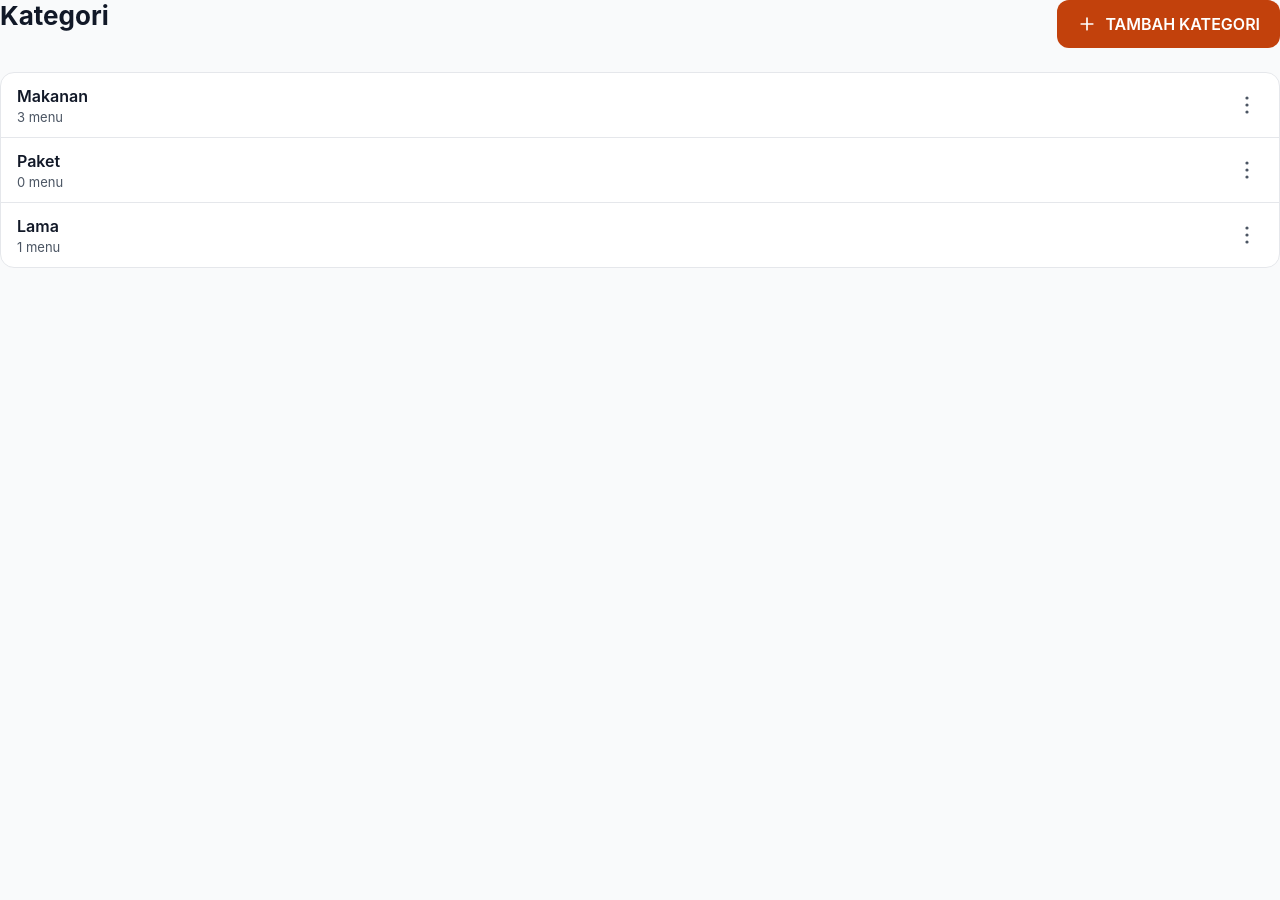
it: renaming a category › opens in a sheet with the current name and saves the new one
Expected: the text "Makanan" is shown, x1=17 y1=86 x2=88 y2=106
Step 1. Click the button named "Aksi untuk Paket" → {"x": 1247, "y": 170}, box x1=1223 y1=146 x2=1271 y2=194
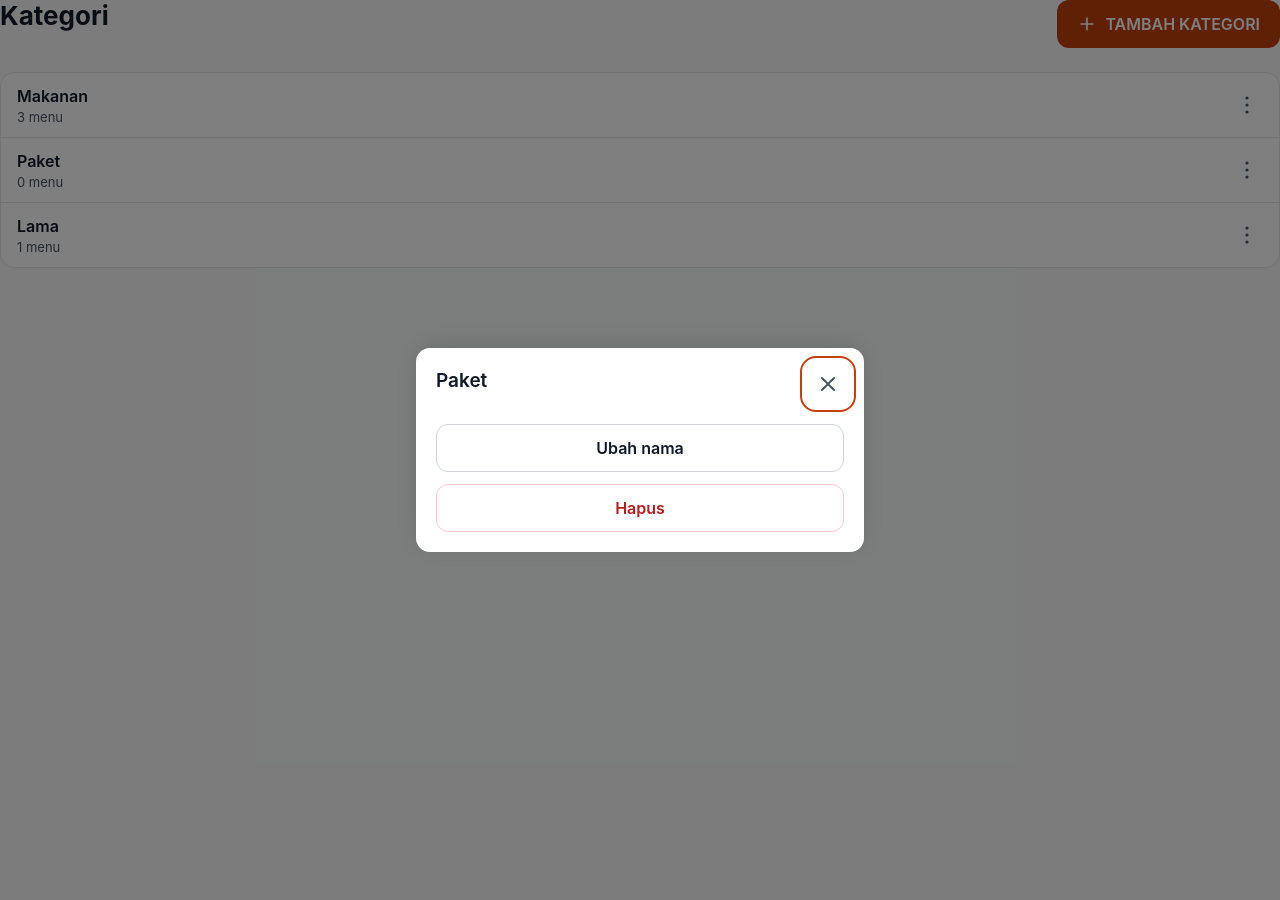
Step 2. Click the button "Ubah nama" → {"x": 640, "y": 448}, box x1=436 y1=424 x2=844 y2=472
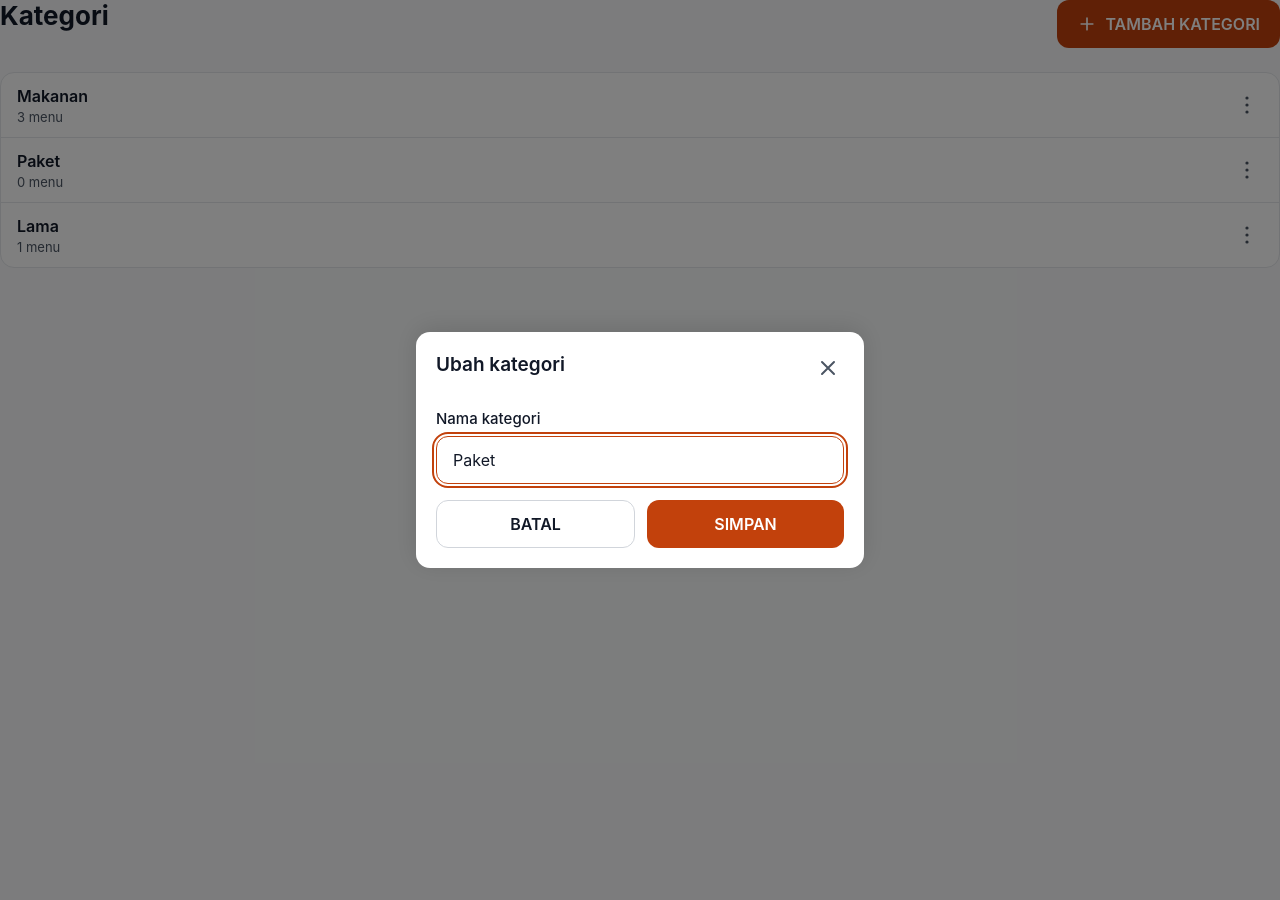
Expected: the field labelled "Nama kategori" holds "Paket"
Step 3. Replace the text in the field labelled "Nama kategori" with "Paket Hemat" → {"x": 640, "y": 460}, box x1=436 y1=436 x2=844 y2=484
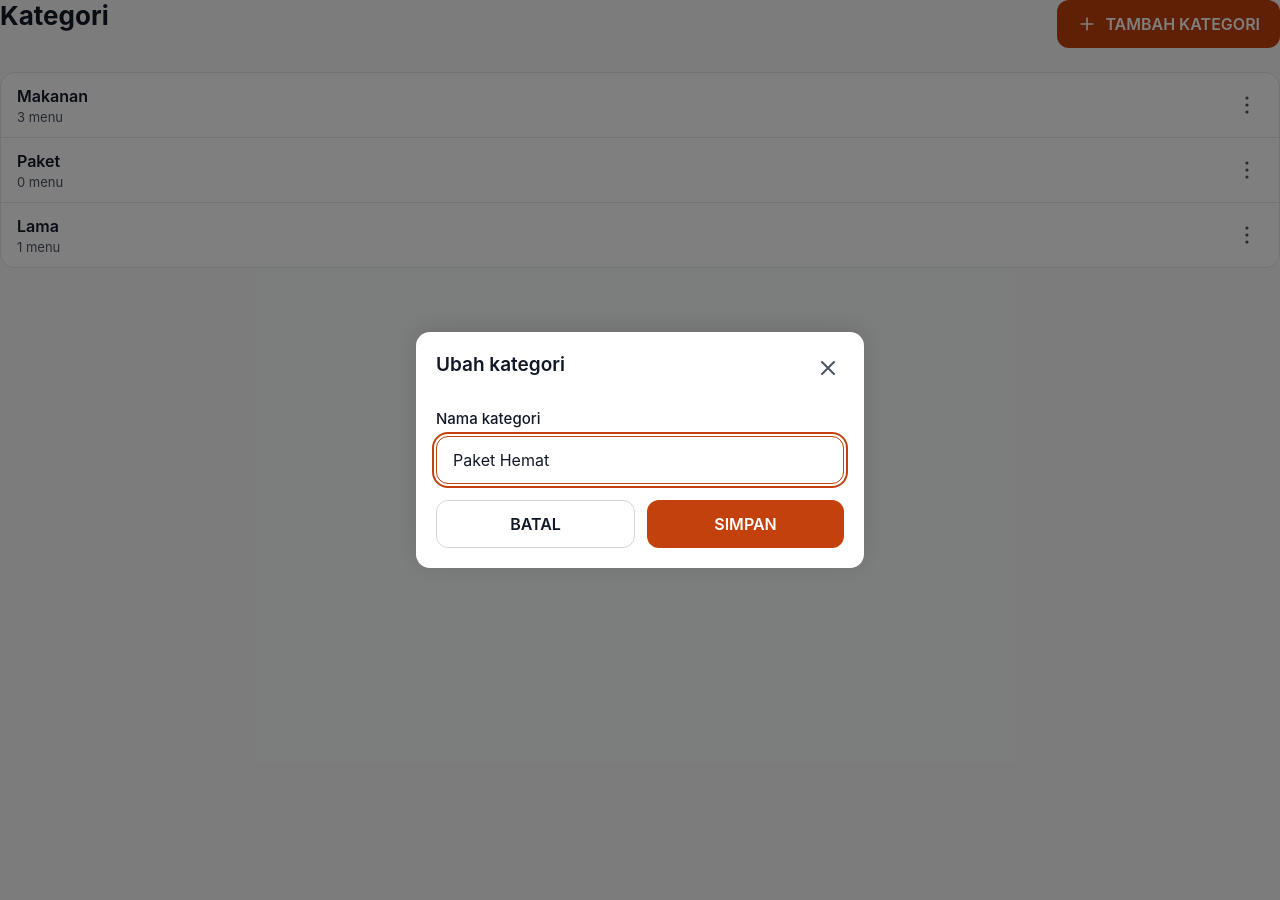
Step 4. Click the button "SIMPAN" → {"x": 746, "y": 524}, box x1=647 y1=500 x2=844 y2=548
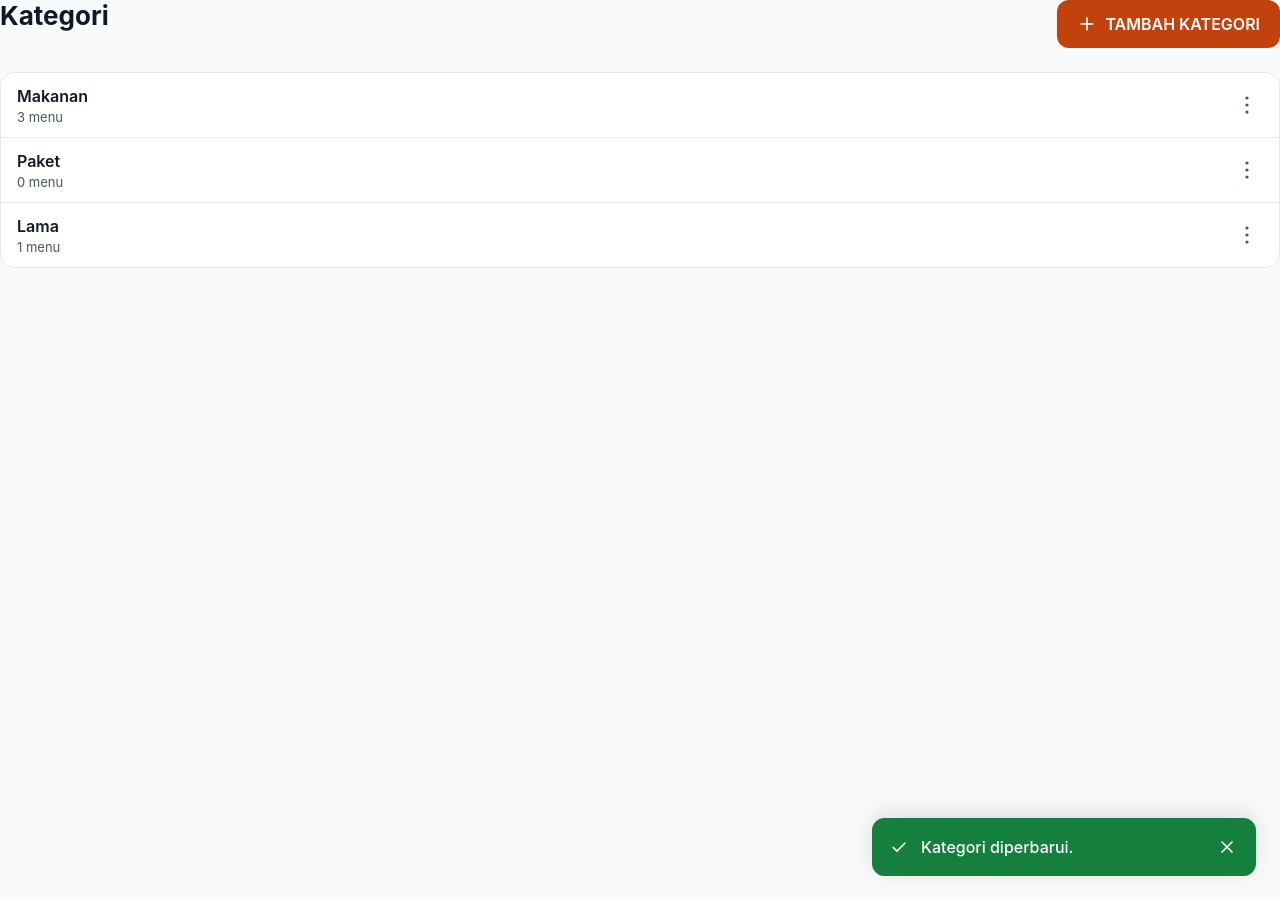
Expected: the text "Kategori diperbarui." is shown, x1=921 y1=837 x2=1073 y2=857
